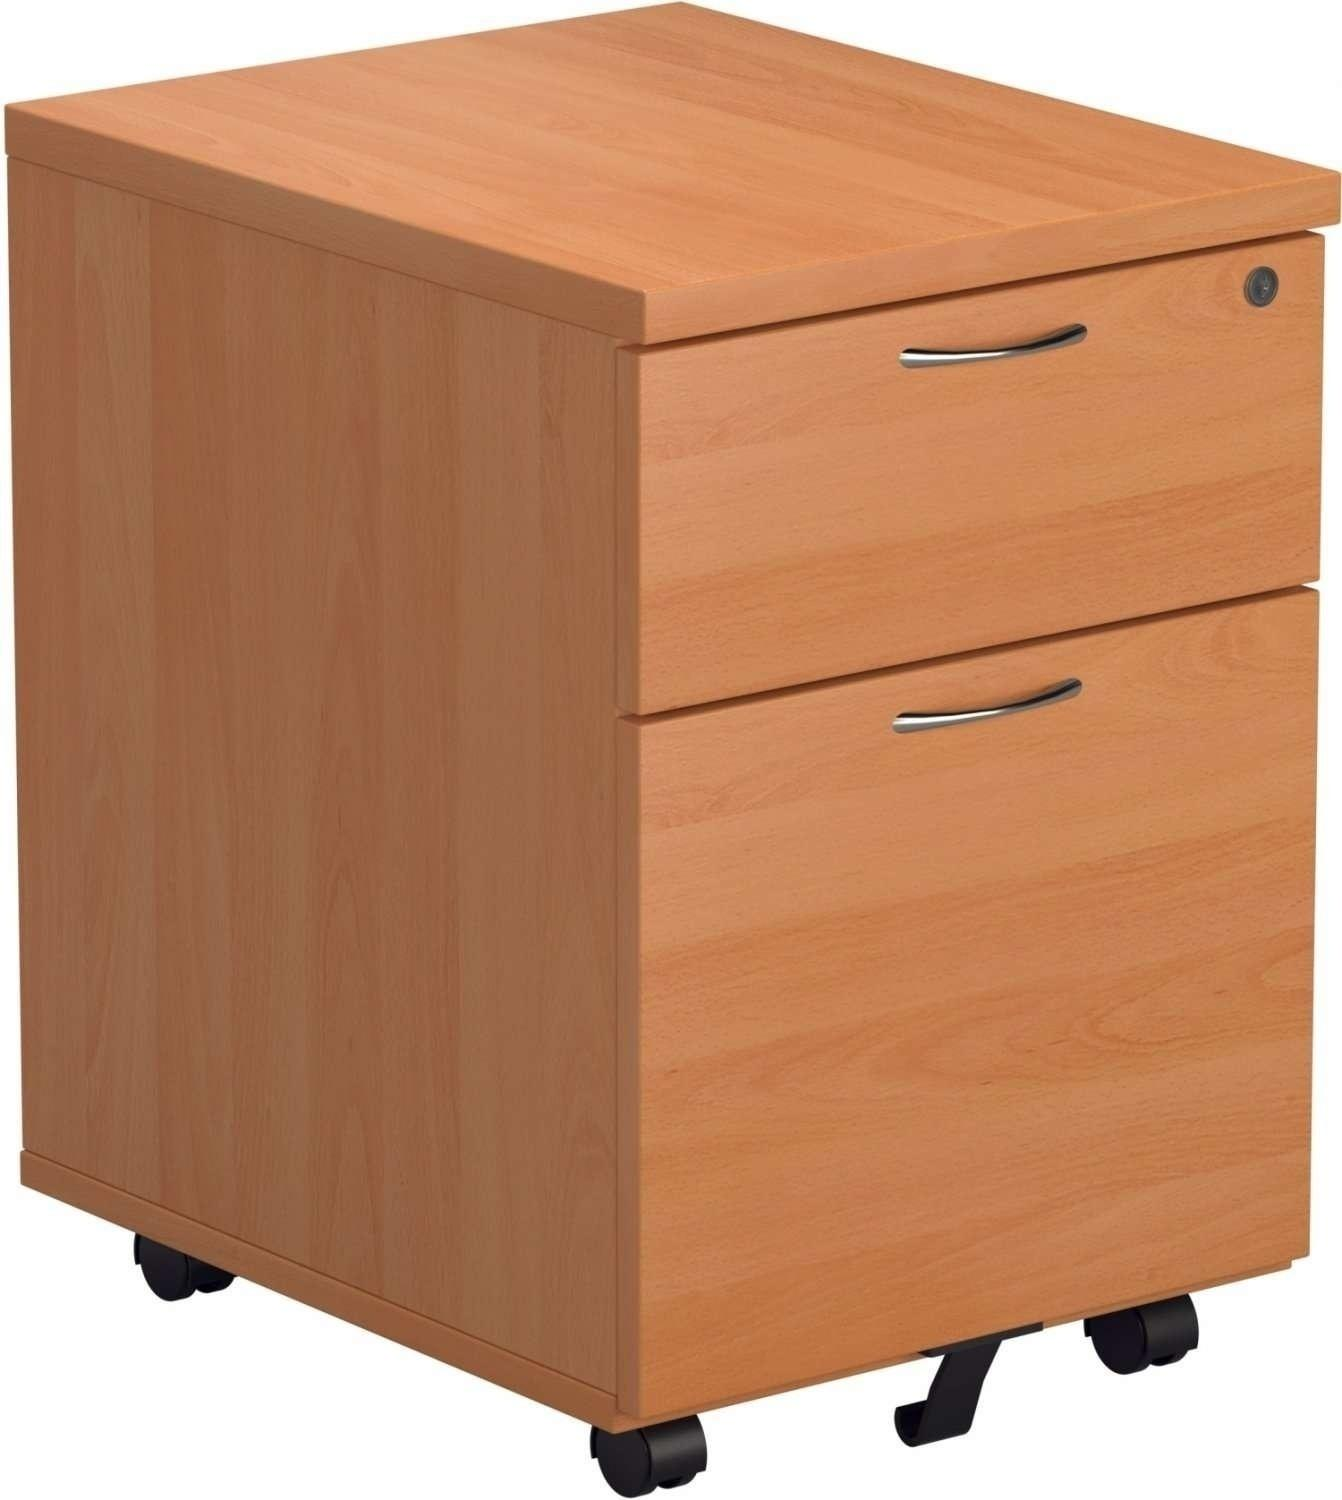cabinet_door: (639, 640, 1304, 1335), (628, 276, 1310, 622)
handle: (886, 662, 1086, 754), (893, 312, 1092, 390)
